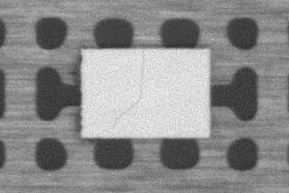DIE_CRACK: (111, 51, 145, 128)
